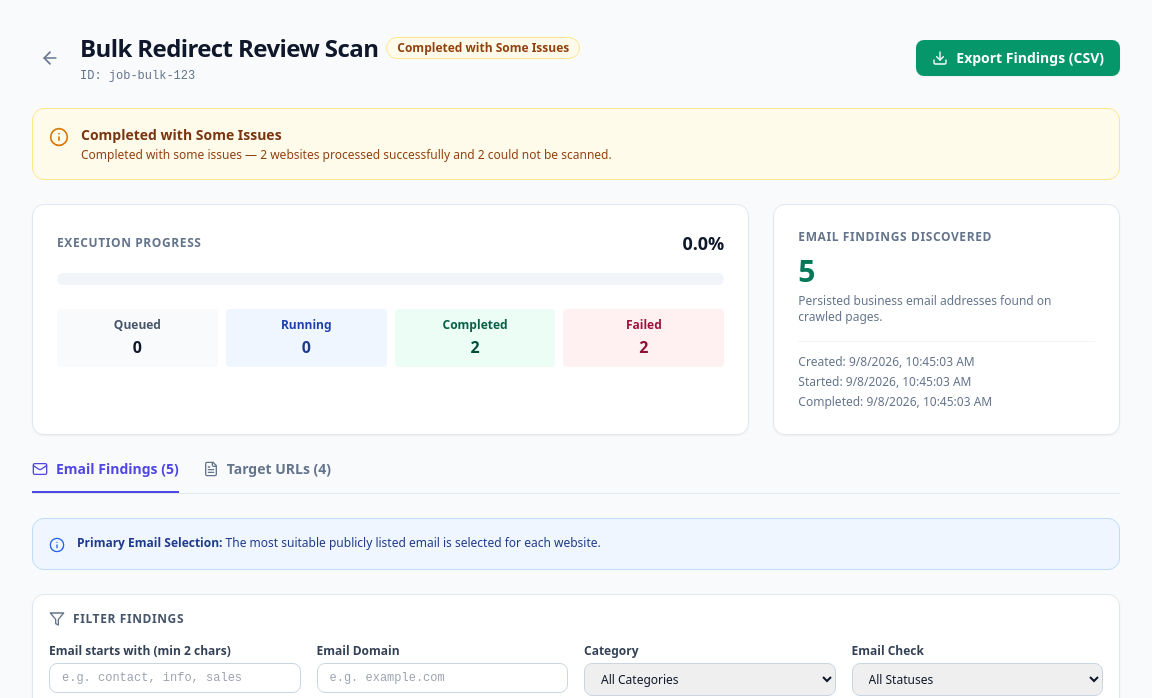
Test: Bulk Redirect Review Web UI › executes bulk rejection flow with confirmation dialog and url_ids contract
This screenshot has width=1152, height=698.
expect the text "Target URLs (4)" is shown: met, box [227,459,331,479]
Click the button "Target URLs (4)": (267, 476) [203,459,331,493]
(page scrolled)
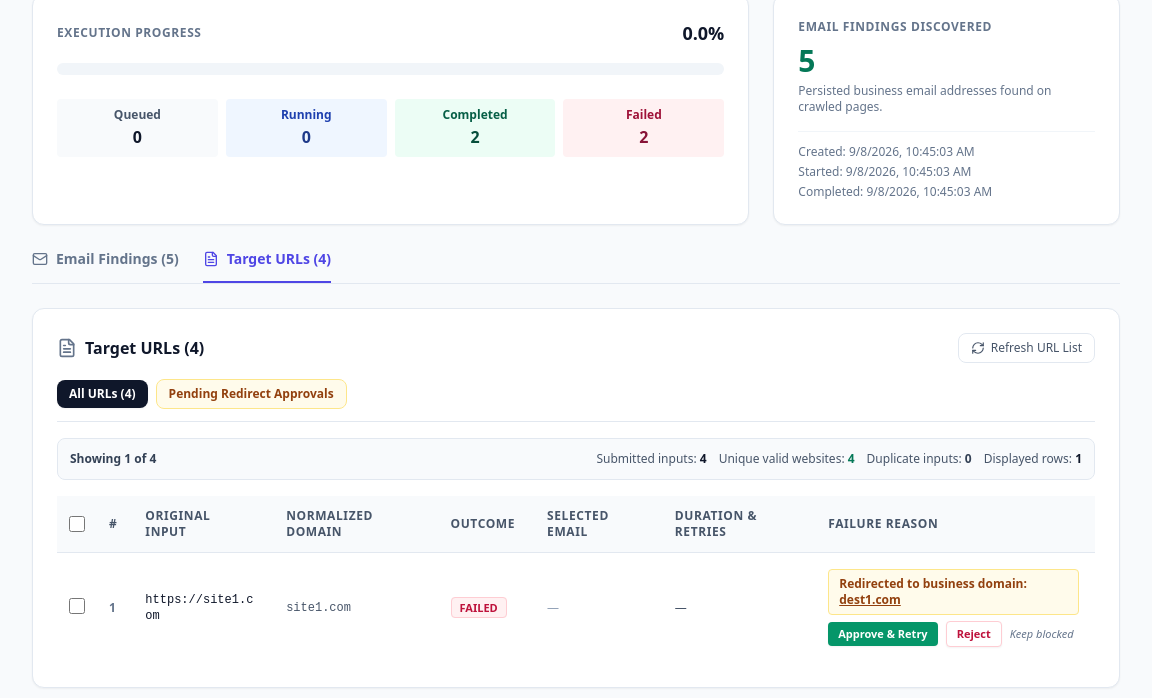
expect the checkbox named "Select redirect for site1.com" is shown: met
Note: Select row 1
Click the checkbox named "Select redirect for site1.com": (77, 606) [69,598,85,614]
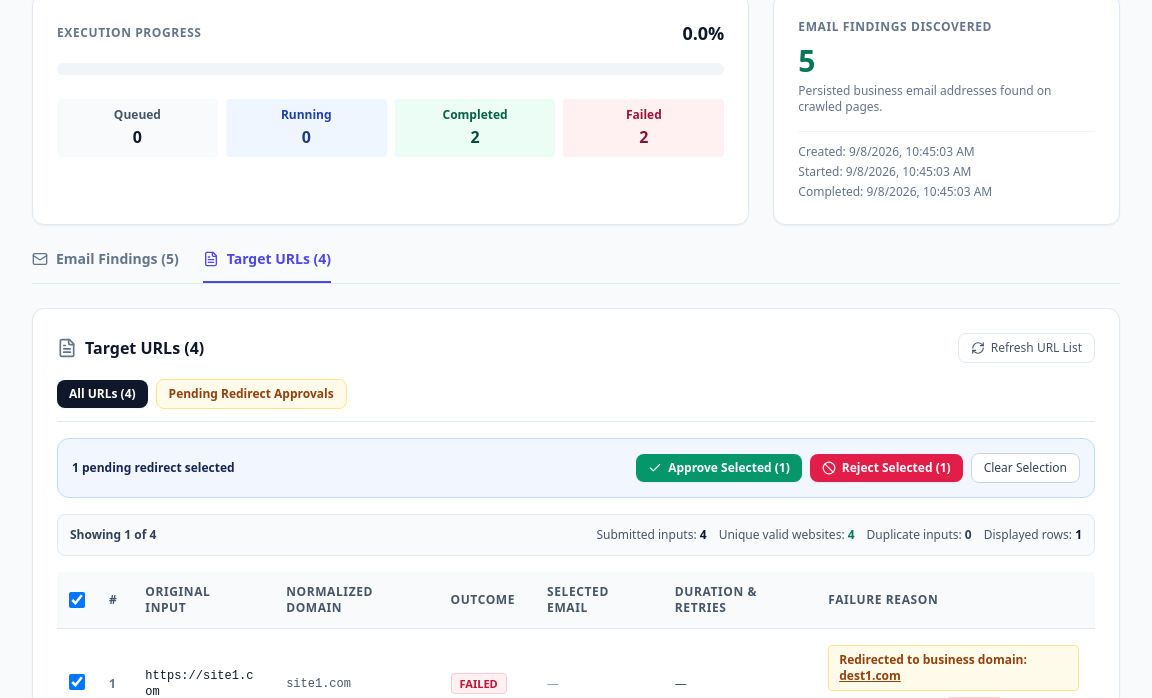
expect the button "Reject Selected (1)" is shown: met
Note: Click Reject Selected to open modal
Click the button "Reject Selected (1)": (886, 468) [810,454,963,482]
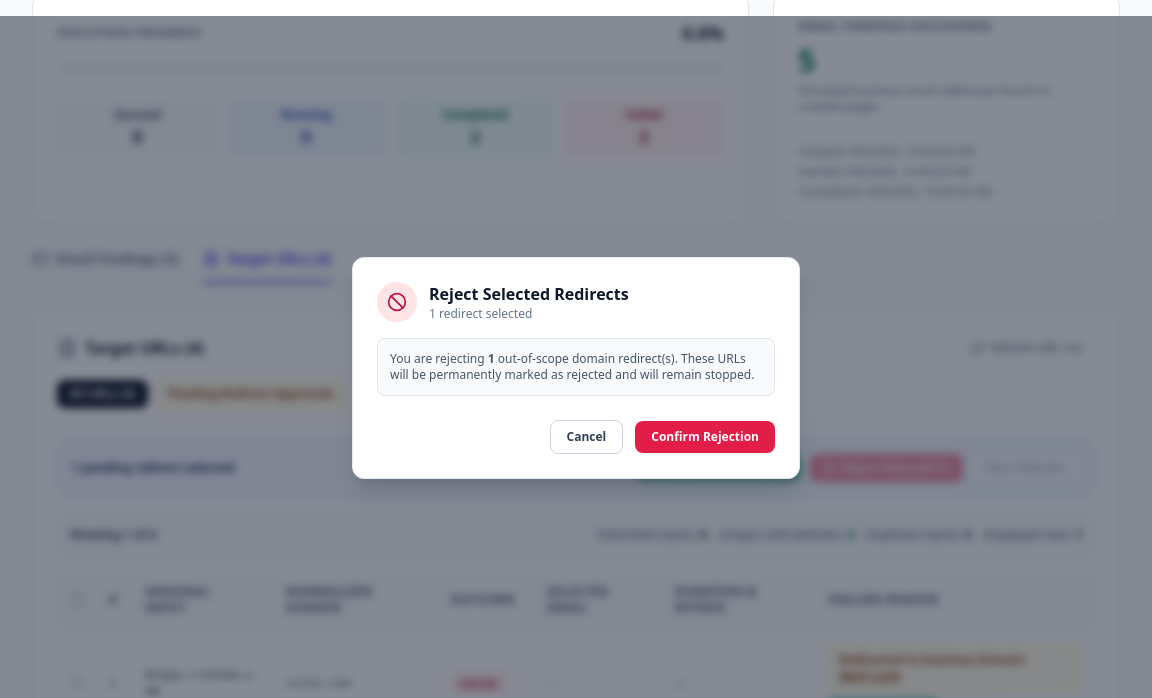
expect the heading "Reject Selected Redirects" is shown: met, box [429,282,629,306]
expect the text "You are rejecting" is shown: met, box [390,350,488,367]
Note: Confirm rejection
Click the button "Confirm Rejection": (705, 437) [635,421,775,453]
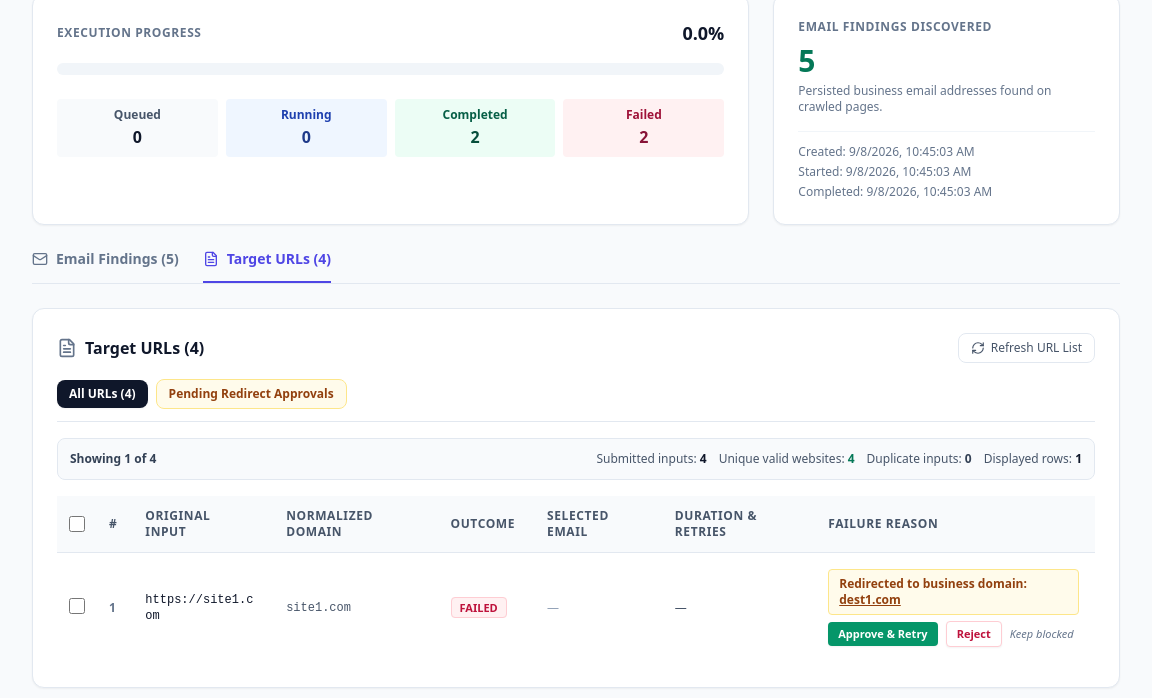
expect the text "1 pending redirect selected" is gone: met
